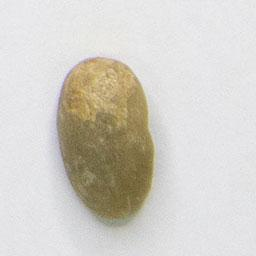longberry: (53, 51, 158, 224)
